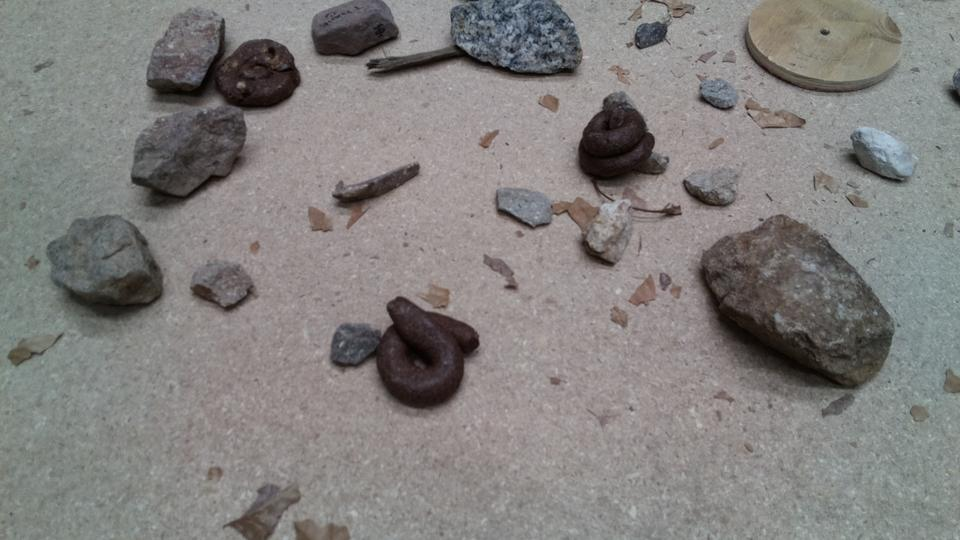poop: (374, 294, 479, 410), (213, 38, 304, 111), (577, 103, 655, 182)
